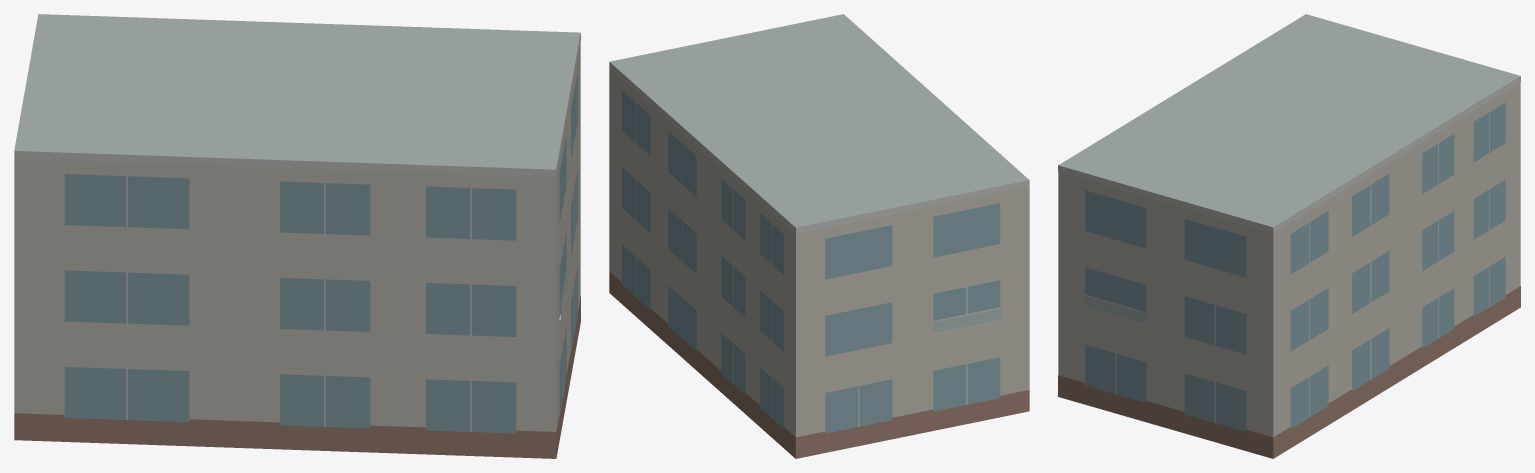
The model's file is survey-upis-32976486.glb.
3 renders of one model, left to right at view 1: azimuth 30°, elevation 25°; view 2: azimuth 150°, elevation 25°; view 3: azimuth 270°, elevation 25°, orthographic. The views are drawn at different scales.
Parts seen in each view (by area): view 1: survey-upis-32976486.tmp; view 2: survey-upis-32976486.tmp; view 3: survey-upis-32976486.tmp.
Part boxes in pixels (x1,y1,x2,y2): survey-upis-32976486.tmp: [14, 14, 580, 458]; survey-upis-32976486.tmp: [609, 14, 1029, 458]; survey-upis-32976486.tmp: [1058, 14, 1520, 458].
Bounding box in the file's own units: 18.09 × 9.15 × 16.58.
